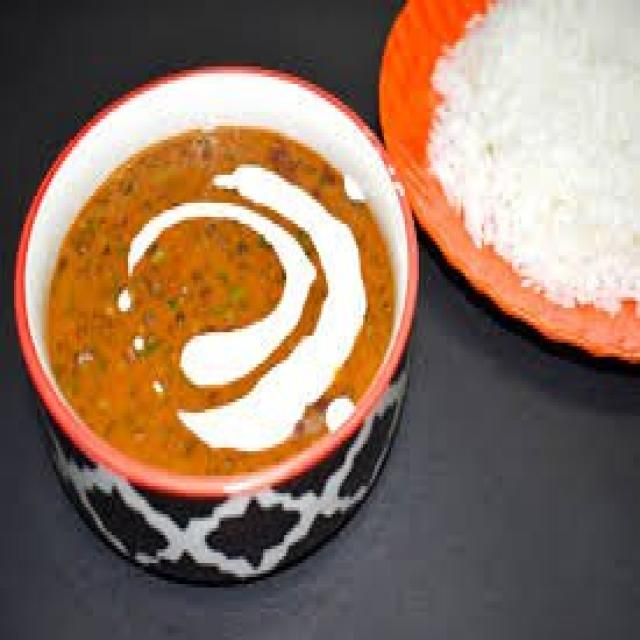dal_makhani: (57, 106, 400, 482)
rice: (416, 0, 640, 341)
